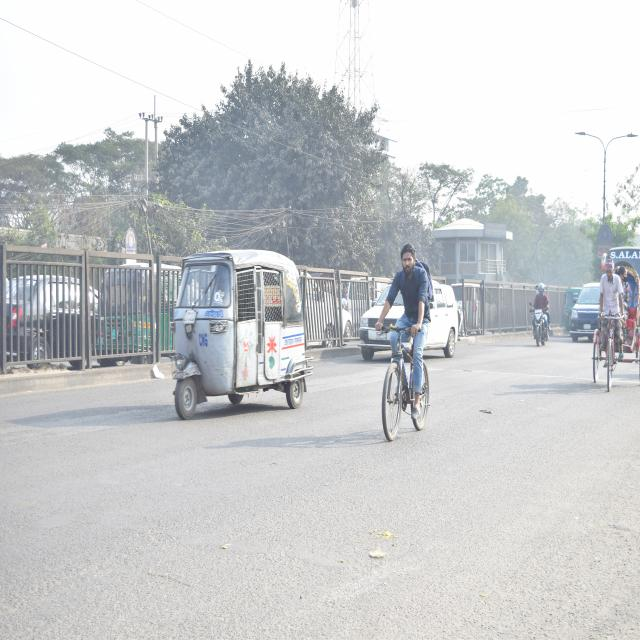car: (351, 268, 465, 366), (573, 273, 605, 343)
motorbike: (526, 284, 552, 348)
